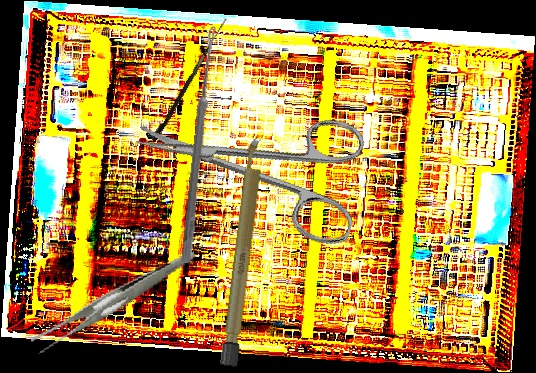Dressing Forceps: (19, 251, 209, 355)
Hook Surgical: (151, 14, 227, 144)
Iris Scissors: (123, 71, 377, 250)
Scalpel Handle: (219, 134, 267, 368)
Surgical Spoon: (181, 25, 217, 264)
